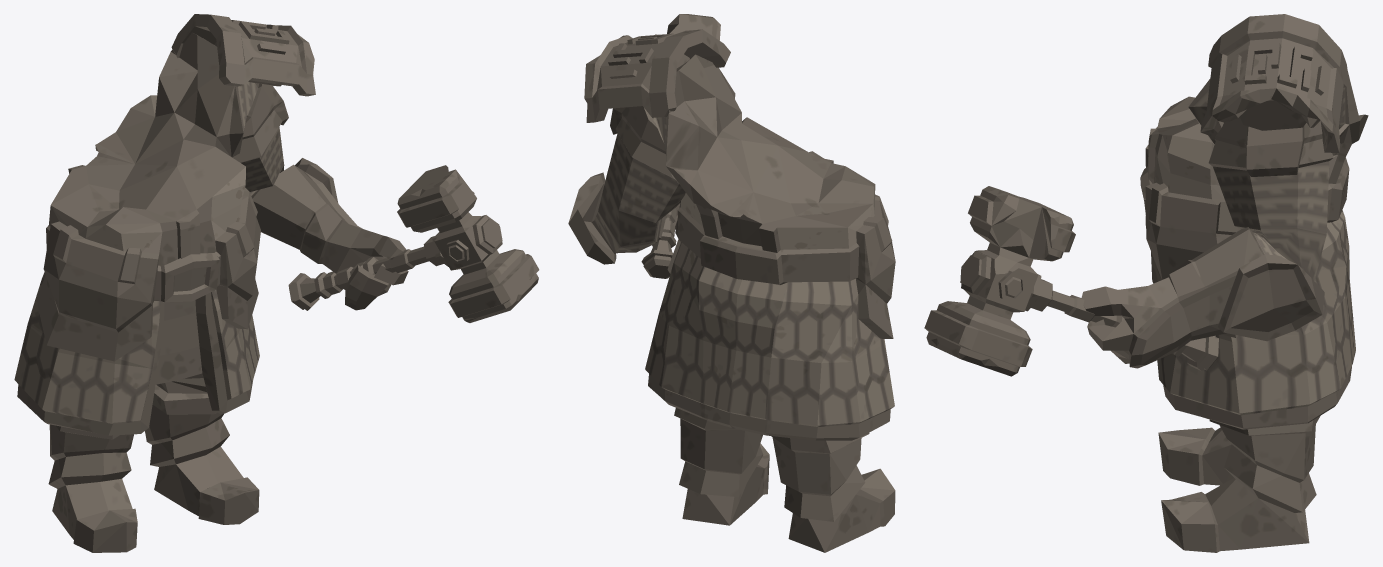
The model's file is pit_statue_broken.gltf.
3 renders of one model, left to right at view 1: azimuth 30°, elevation 25°; view 2: azimuth 150°, elevation 25°; view 3: azimuth 270°, elevation 25°, orthographic. The views are drawn at different scales.
Visible parts, largest first — view 1: pit_statue_broken; view 2: pit_statue_broken; view 3: pit_statue_broken.
Boxes of the visible parts, x1,y1,x2,y2 form: pit_statue_broken: [14, 14, 539, 552]; pit_statue_broken: [568, 14, 895, 552]; pit_statue_broken: [924, 14, 1368, 552].
Size of the model in its own units: 1.38 by 1.63 by 1.23.
Materials: 1 (1 with a texture image).
